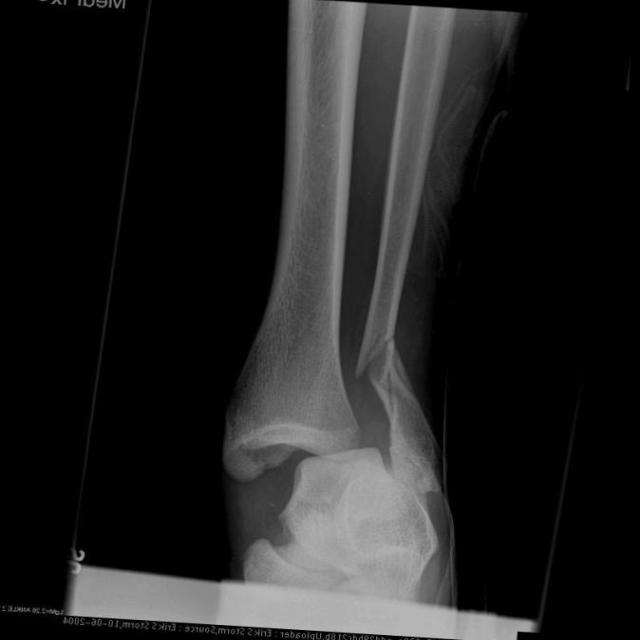Oblique Displaced: (350, 320, 414, 408)
